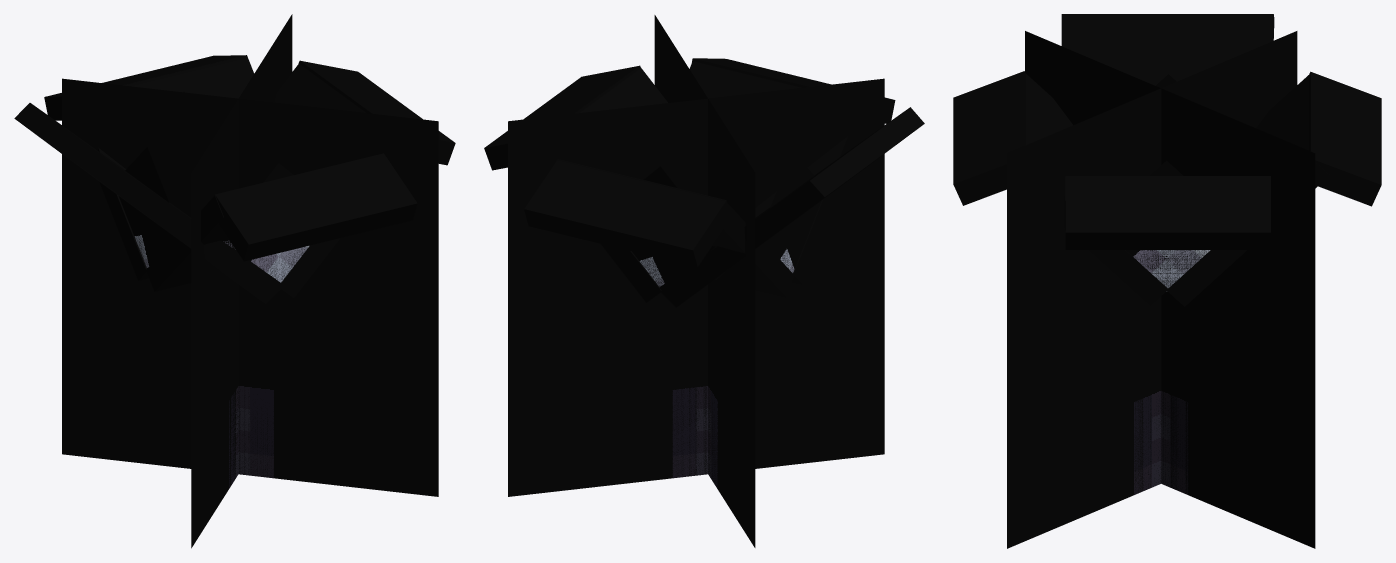
Rendered from dyescrapia_plant_r.obj.
3 views of the same model, side by side, from view 1: azimuth 30°, elevation 25°; view 2: azimuth 150°, elevation 25°; view 3: azimuth 270°, elevation 25° (orthographic). The views are drawn at different scales.
Visible parts, largest first — view 1: cube_selection; view 2: cube_selection; view 3: cube_selection.
Part boxes in pixels (<box>): cube_selection: <box>14,14,455,548</box>; cube_selection: <box>484,15,924,547</box>; cube_selection: <box>953,14,1381,548</box>.
Bounding box in the file's own units: 1.01 × 1.06 × 1.04.
